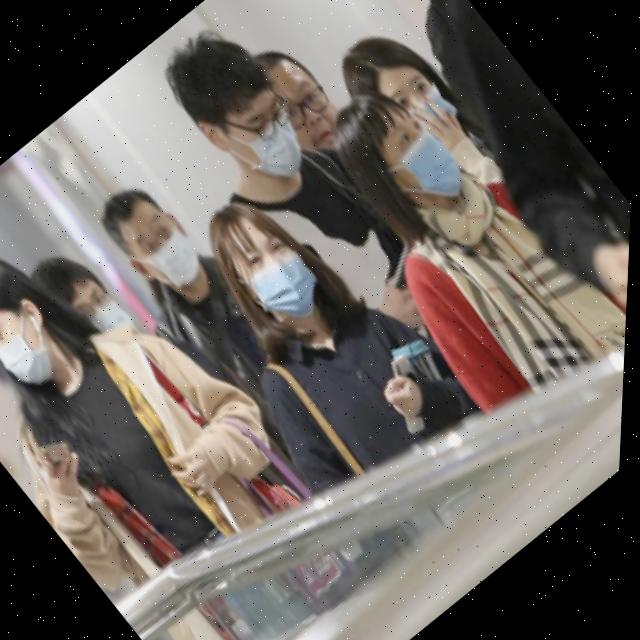Mask: (192, 73, 323, 204), (229, 229, 336, 335), (372, 121, 478, 226), (117, 206, 219, 306), (0, 290, 83, 397), (67, 279, 148, 360)
